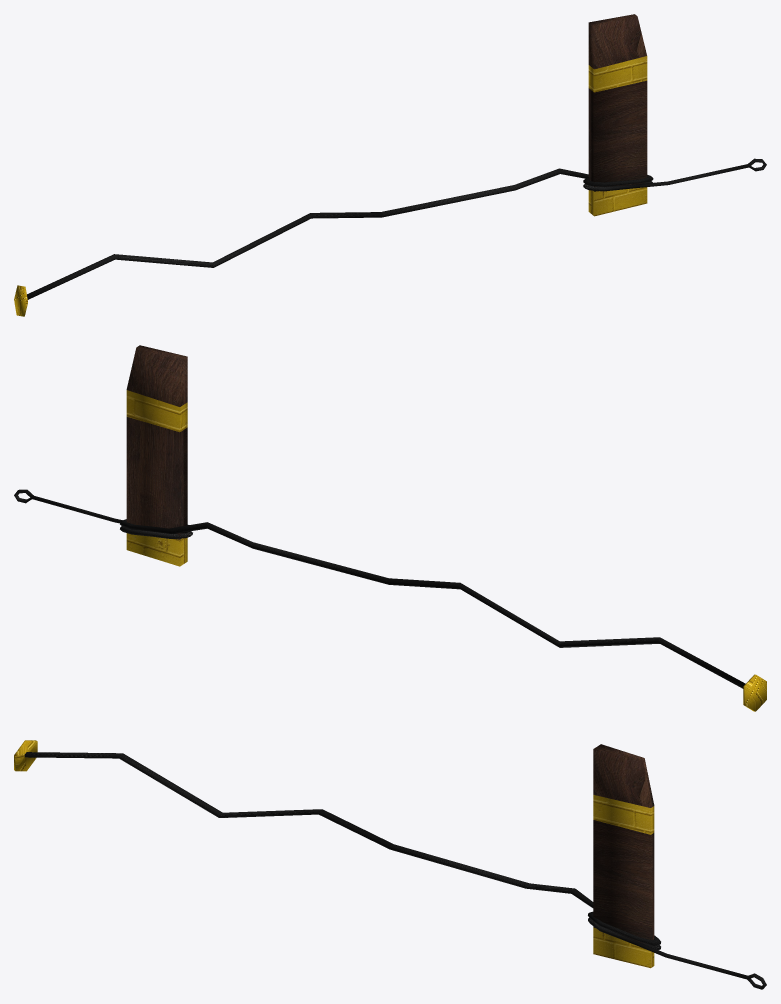
Rendered from KnifeBag.fbx.
3 renders of one model, top to bottom at view 1: azimuth 30°, elevation 25°; view 2: azimuth 150°, elevation 25°; view 3: azimuth 330°, elevation 25°, orthographic. The views are drawn at different scales.
Parts seen in each view (by area): view 1: Knifebag; view 2: Knifebag; view 3: Knifebag.
Boxes of the visible parts, x1,y1,x2,y2 form: Knifebag: [14, 14, 766, 316]; Knifebag: [14, 345, 766, 711]; Knifebag: [14, 740, 766, 989].
Size of the model in its own units: 90.04 by 8.82 by 22.65.
Materials: 3 (3 with a texture image).
